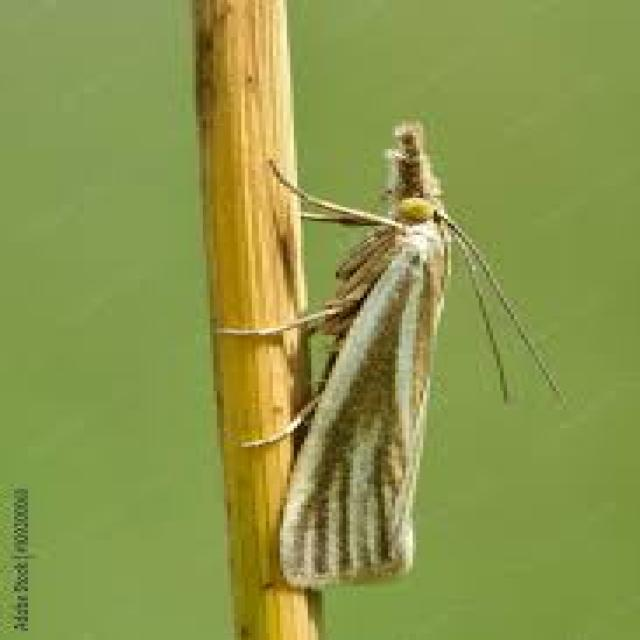yellow-stem-borer: (211, 79, 533, 615)
